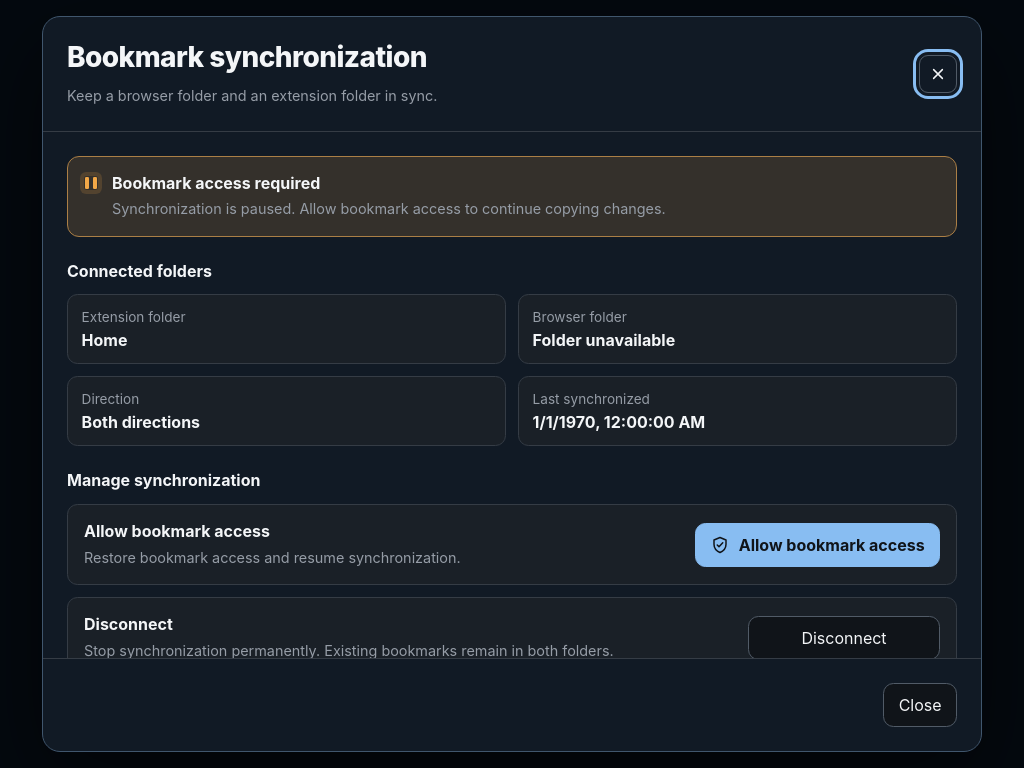
Test: SynchronizationDialog › restores bookmark access and resumes a permission-paused connection
This screenshot has width=1024, height=768.
Check: the heading "Bookmark access required" is shown, box [112,173,320,193]
Click the button "Allow bookmark access": [817, 544] box [694,522,940,566]
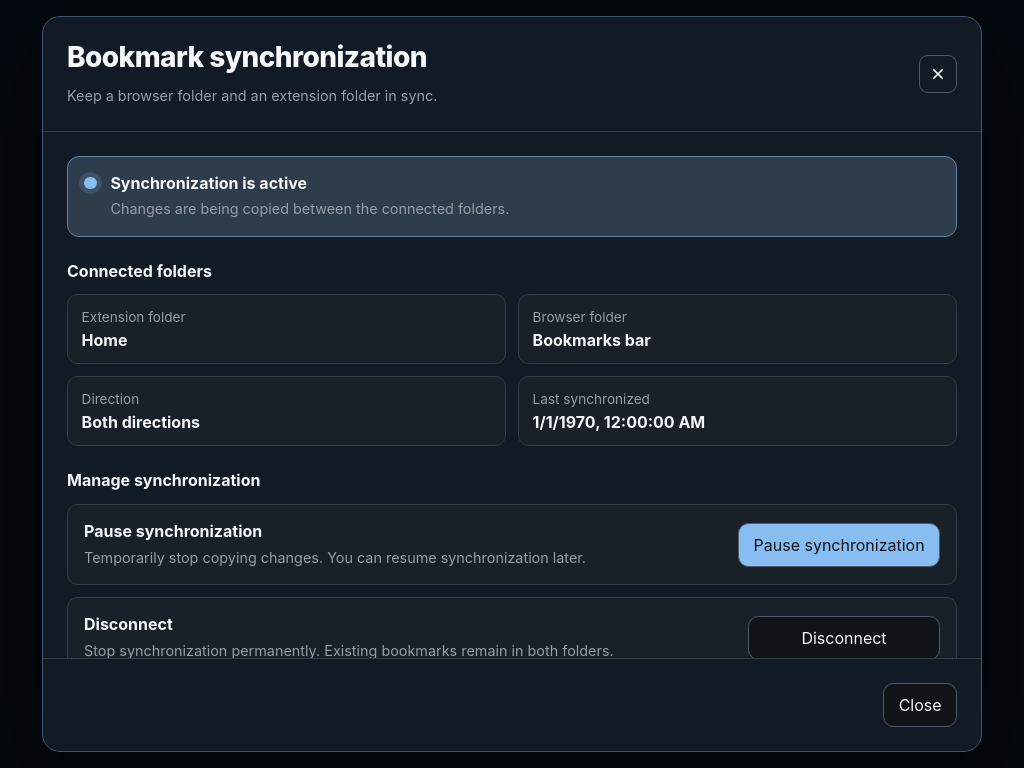
Check: the heading "Synchronization is active" is shown, box [110,173,307,193]
